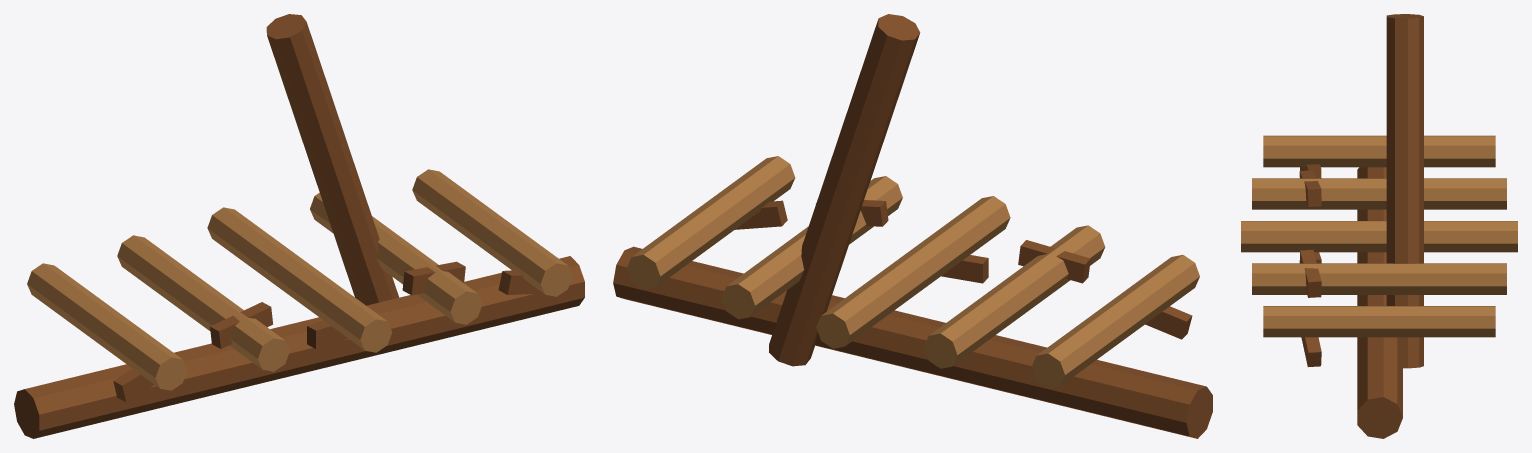
The model's file is SM_HalfBuriedShipwreck_A.glb.
The picture shows the model from 3 angles, left to right: view 1: azimuth 30°, elevation 25°; view 2: azimuth 150°, elevation 25°; view 3: azimuth 270°, elevation 25°; orthographic projection. The views are drawn at different scales.
Parts seen in each view (by area): view 1: SM_HalfBuriedShipwreck_A; view 2: SM_HalfBuriedShipwreck_A; view 3: SM_HalfBuriedShipwreck_A.
Part boxes in pixels (left/top/right/bottom): SM_HalfBuriedShipwreck_A: left=14, top=14, right=584, bottom=438; SM_HalfBuriedShipwreck_A: left=613, top=14, right=1212, bottom=438; SM_HalfBuriedShipwreck_A: left=1241, top=14, right=1517, bottom=438.
Bounding box in the file's own units: 6.8 × 4.13 × 3.3.
